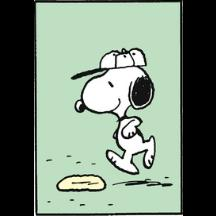snoopy: (70, 46, 156, 176)
